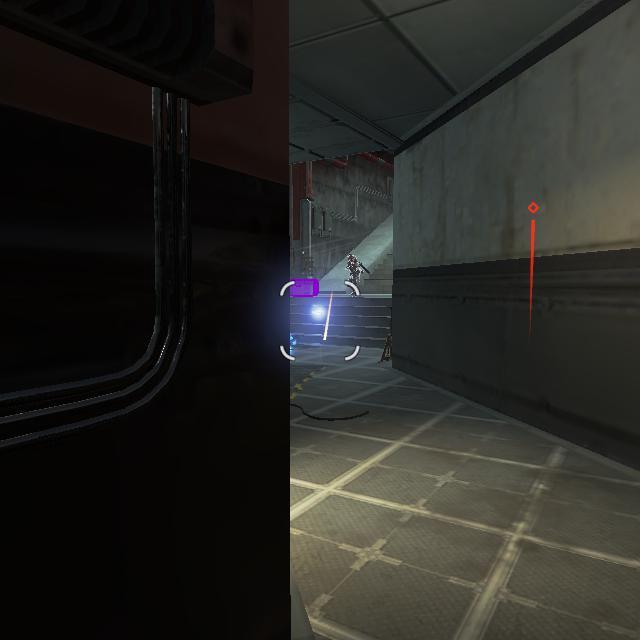avatar: (345, 252, 366, 300)
